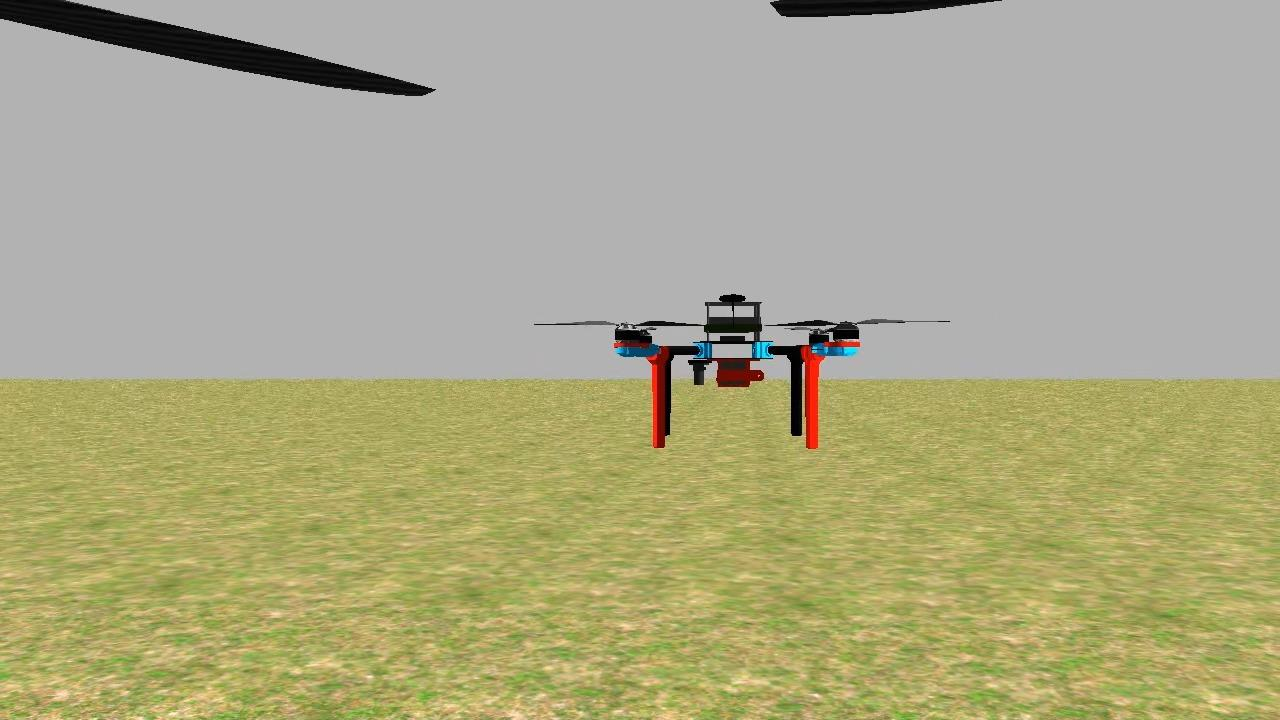UAV: (580, 282, 886, 470)
